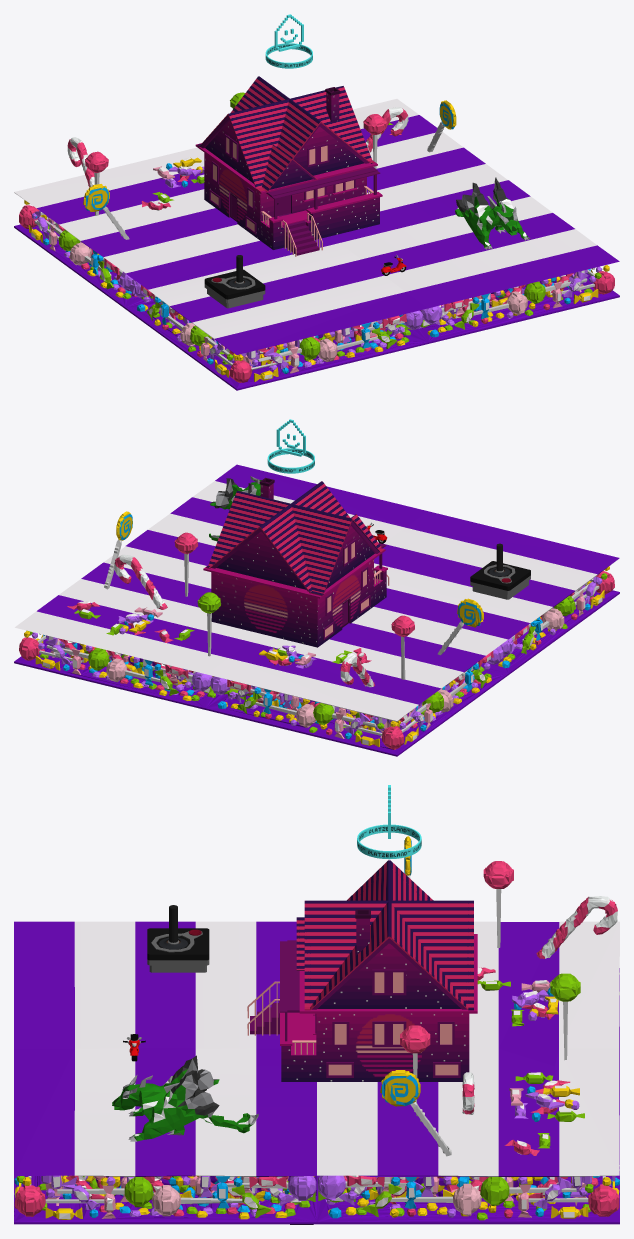
3 views of the same model, one above another, from view 1: azimuth 30°, elevation 25°; view 2: azimuth 150°, elevation 25°; view 3: azimuth 270°, elevation 25° (orthographic). The views are drawn at different scales.
Parts seen in each view (by area): view 1: TERRAIN_CANDY, Cube.156, ANIMAL_DRAGON, OBJRANDOM_JOYSTICK, TYPE_PREMIUM; view 2: TERRAIN_CANDY, Cube.156, OBJRANDOM_JOYSTICK, TYPE_PREMIUM, ANIMAL_DRAGON; view 3: TERRAIN_CANDY, Cube.156, ANIMAL_DRAGON, OBJRANDOM_JOYSTICK, TYPE_PREMIUM.
Part boxes in pixels (x1,y1,x2,y2): TERRAIN_CANDY: (14, 92, 619, 390); Cube.156: (195, 76, 382, 256); ANIMAL_DRAGON: (455, 177, 530, 249); OBJRANDOM_JOYSTICK: (204, 255, 265, 308); TYPE_PREMIUM: (265, 14, 312, 68); TERRAIN_CANDY: (14, 464, 619, 756); Cube.156: (203, 477, 389, 647); OBJRANDOM_JOYSTICK: (470, 543, 530, 599); TYPE_PREMIUM: (267, 419, 314, 473); ANIMAL_DRAGON: (209, 476, 261, 541); TERRAIN_CANDY: (14, 836, 619, 1224); Cube.156: (247, 860, 477, 1081); ANIMAL_DRAGON: (112, 1055, 258, 1141); OBJRANDOM_JOYSTICK: (147, 905, 209, 972); TYPE_PREMIUM: (357, 785, 421, 859).
Size of the model in its own units: 4059 by 2347 by 4000.
32 materials, 5 textured.
